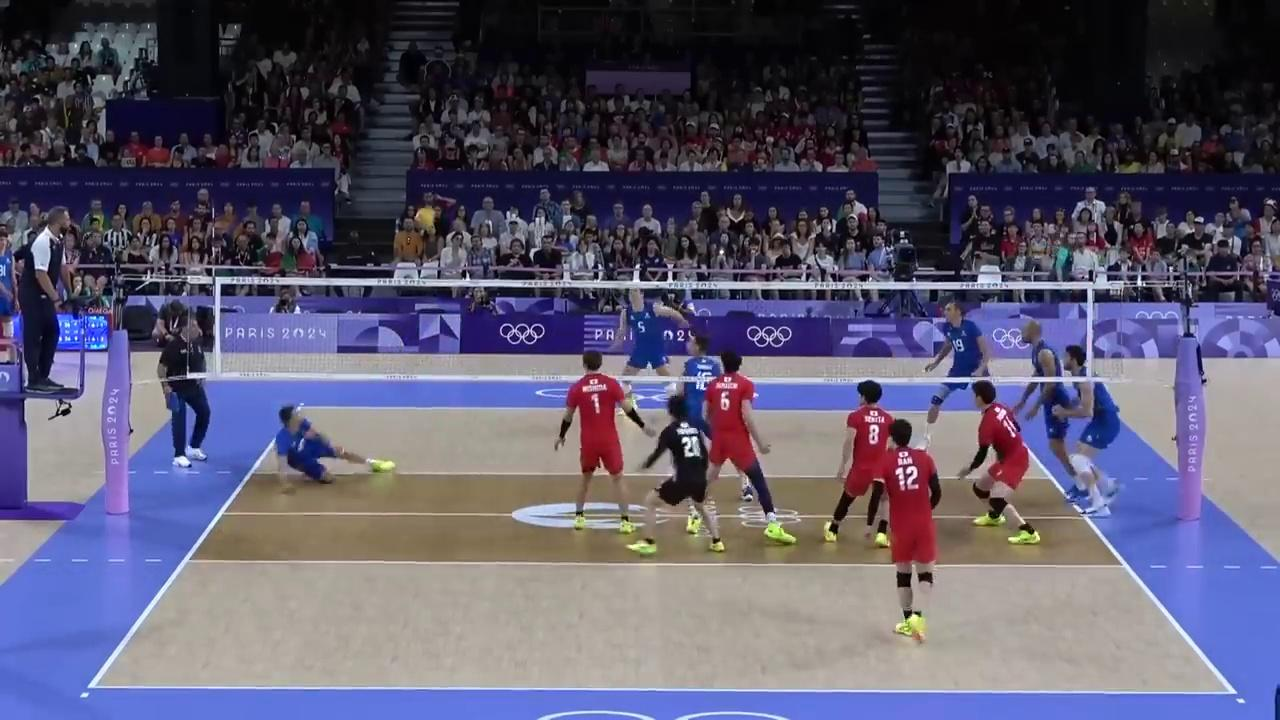ball: (417, 206, 437, 232)
